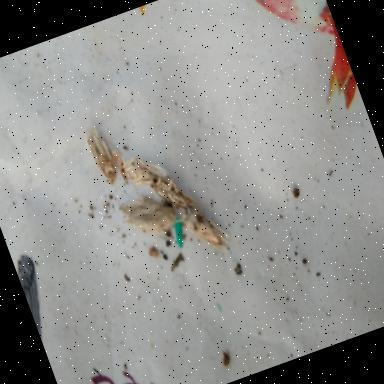pbw: (178, 200, 234, 260), (112, 148, 166, 195), (81, 126, 120, 186), (146, 164, 192, 214)
